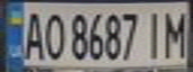6: (84, 8, 106, 61)
7: (121, 8, 142, 60)
8: (66, 9, 90, 61), (103, 9, 124, 61)
A: (18, 7, 45, 61)
I: (142, 7, 169, 60)
M: (160, 6, 190, 58)
O: (42, 8, 66, 61)
